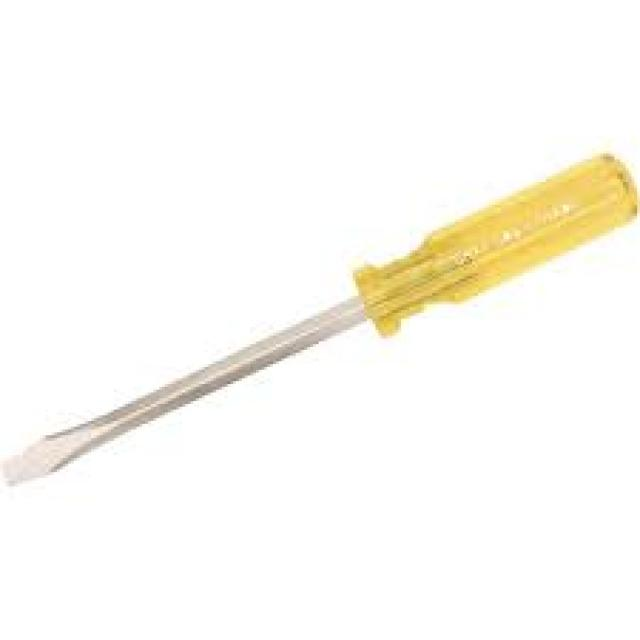screw driver: (0, 100, 640, 532)
